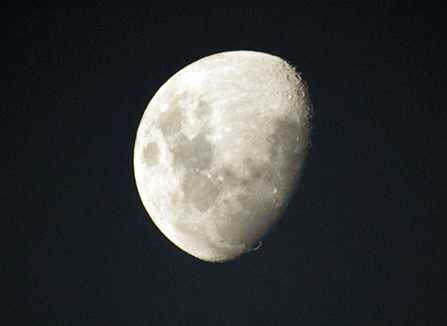crater: (279, 89, 294, 106), (267, 184, 279, 195), (292, 72, 302, 82)
